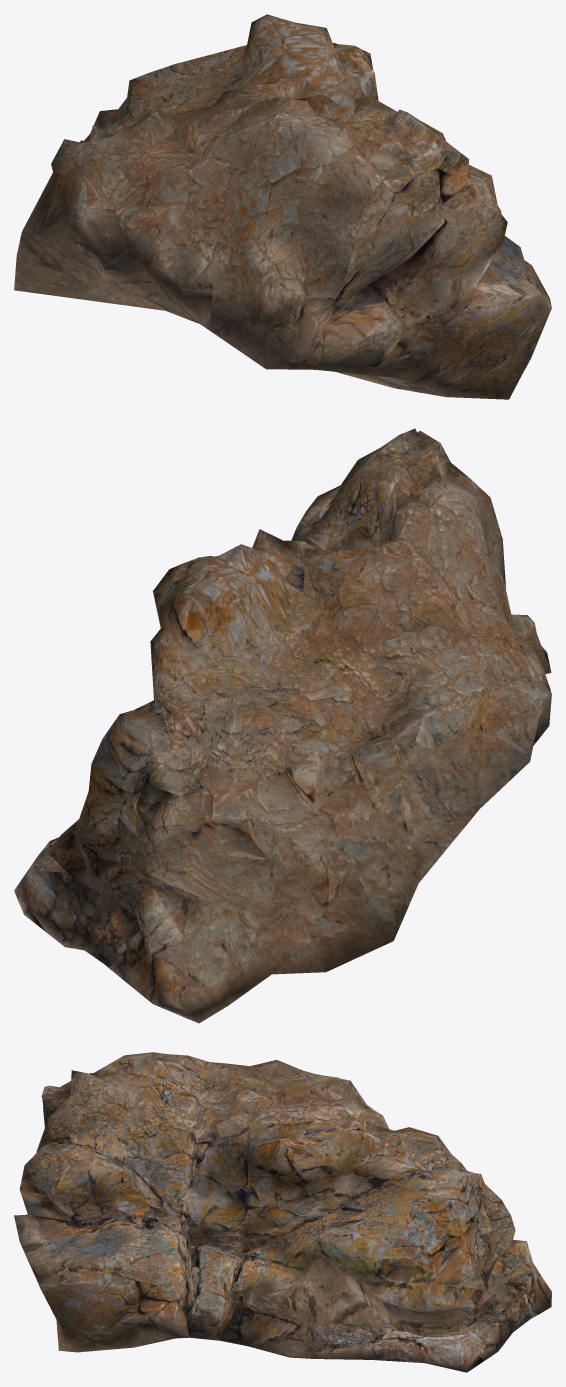
The model's file is boulder-01.glb.
3 renders of one model, top to bottom at view 1: azimuth 30°, elevation 25°; view 2: azimuth 150°, elevation 25°; view 3: azimuth 270°, elevation 25°, orthographic. The views are drawn at different scales.
Visible parts, largest first — view 1: boulder_01; view 2: boulder_01; view 3: boulder_01.
Part boxes in pixels (<box>): boulder_01: <box>14,14,551,399</box>; boulder_01: <box>14,428,551,1023</box>; boulder_01: <box>14,1052,551,1372</box>.
Size of the model in its own units: 1.28 by 1 by 1.81.
1 material, 1 textured.
